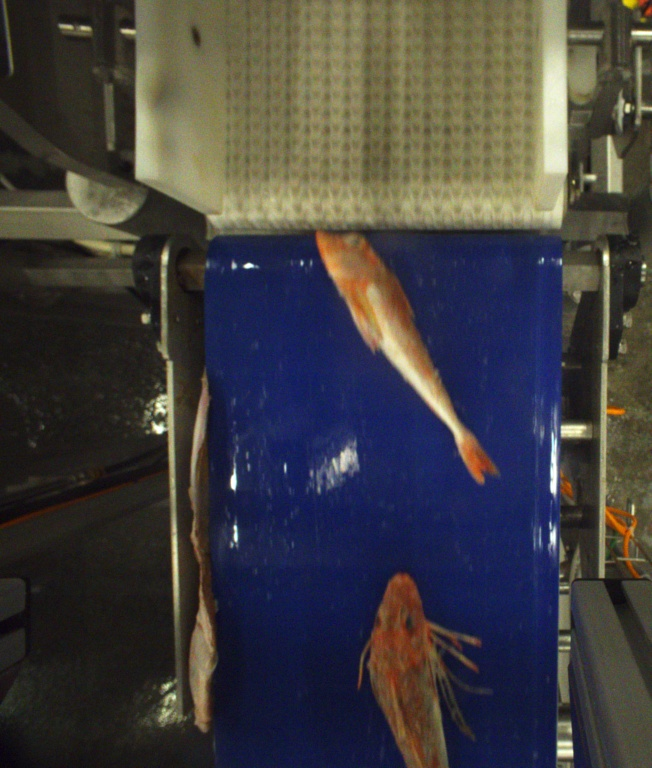GUU: (357, 570, 489, 768)
